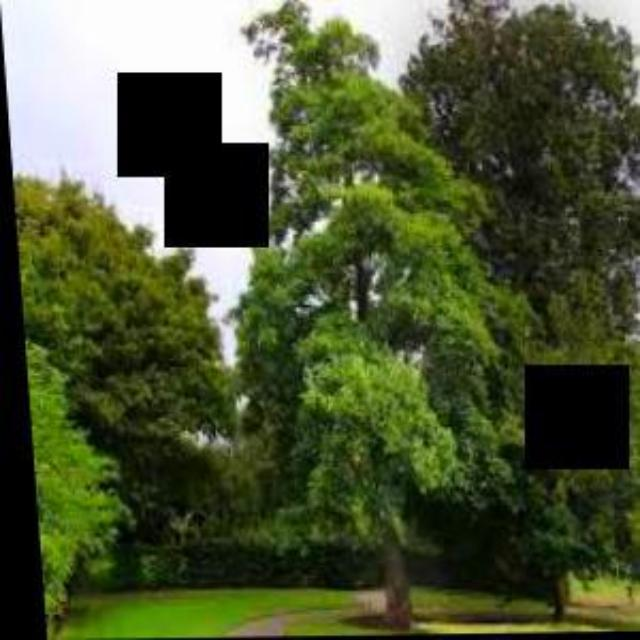tree: (225, 1, 508, 632), (404, 2, 638, 620)
